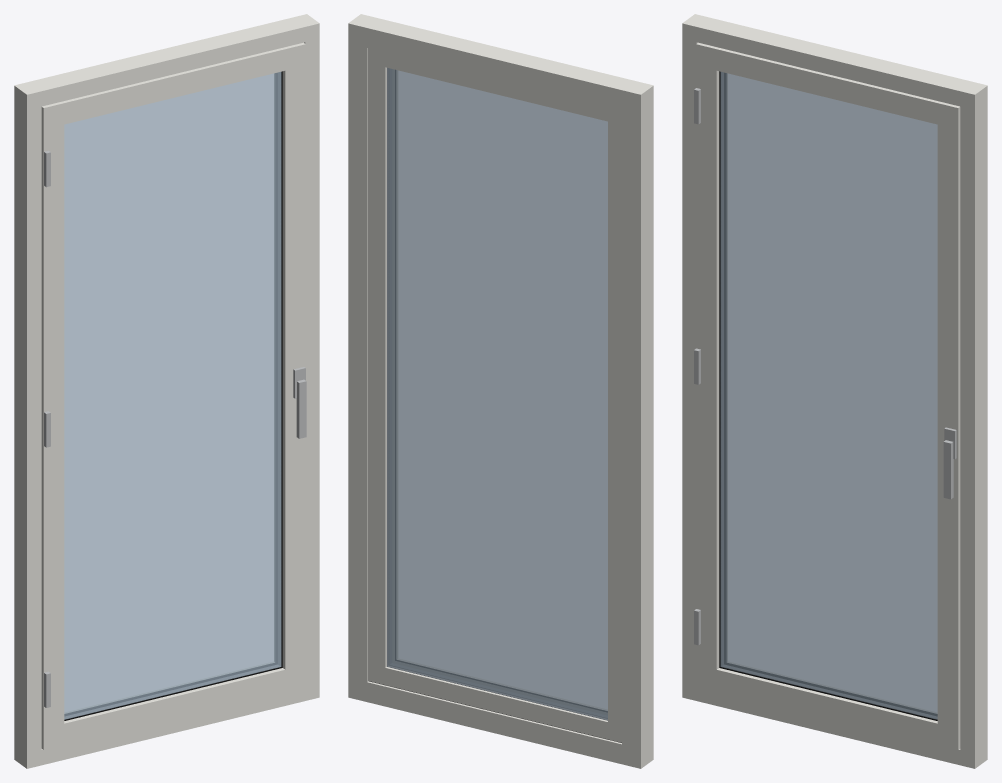
The model's file is series-76-ad.glb.
3 renders of one model, left to right at view 1: azimuth 30°, elevation 25°; view 2: azimuth 150°, elevation 25°; view 3: azimuth 330°, elevation 25°, orthographic.
Parts seen in each view (by area): view 1: Series 76 AD; view 2: Series 76 AD; view 3: Series 76 AD.
Boxes of the visible parts, <box> form: Series 76 AD: <box>14,14,319,768</box>; Series 76 AD: <box>348,14,653,768</box>; Series 76 AD: <box>682,14,987,768</box>.
Bounding box in the file's own units: 1 × 2.2 × 0.108.
